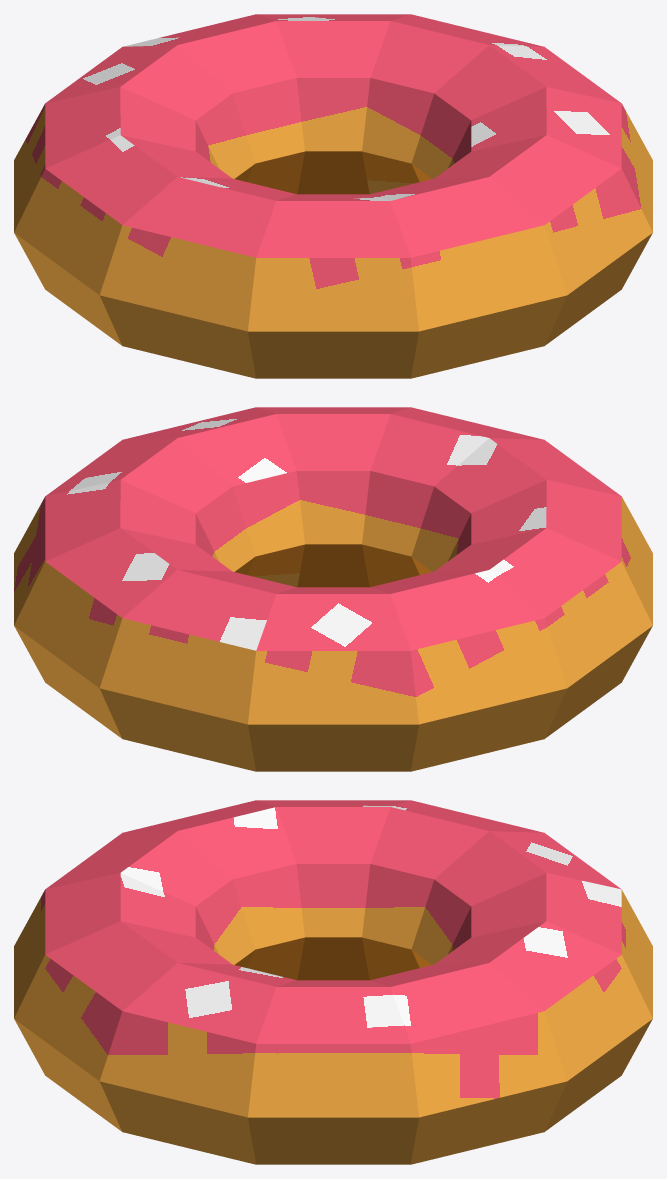
The model's file is donut.gltf.
3 views of the same model, one above another, from view 1: azimuth 30°, elevation 25°; view 2: azimuth 150°, elevation 25°; view 3: azimuth 270°, elevation 25° (orthographic).
Visible parts, largest first — view 1: torus; view 2: torus; view 3: torus.
Boxes of the visible parts, x1,y1,x2,y2 form: torus: (14, 14, 652, 378); torus: (14, 407, 652, 771); torus: (14, 800, 652, 1164).
Bounding box in the file's own units: 0.9062 × 0.2676 × 0.9062.
Materials: 1 (1 with a texture image).
